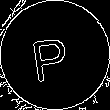P_N: (33, 28, 77, 82)
